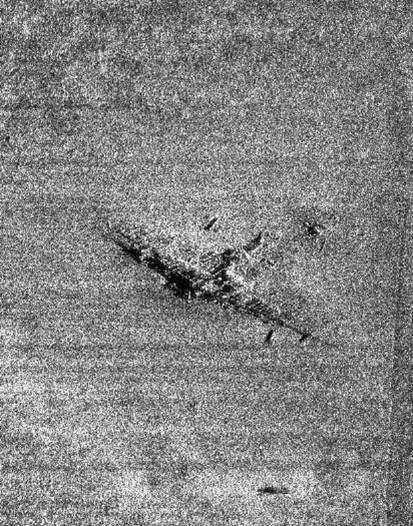ship: (115, 223, 307, 336)
